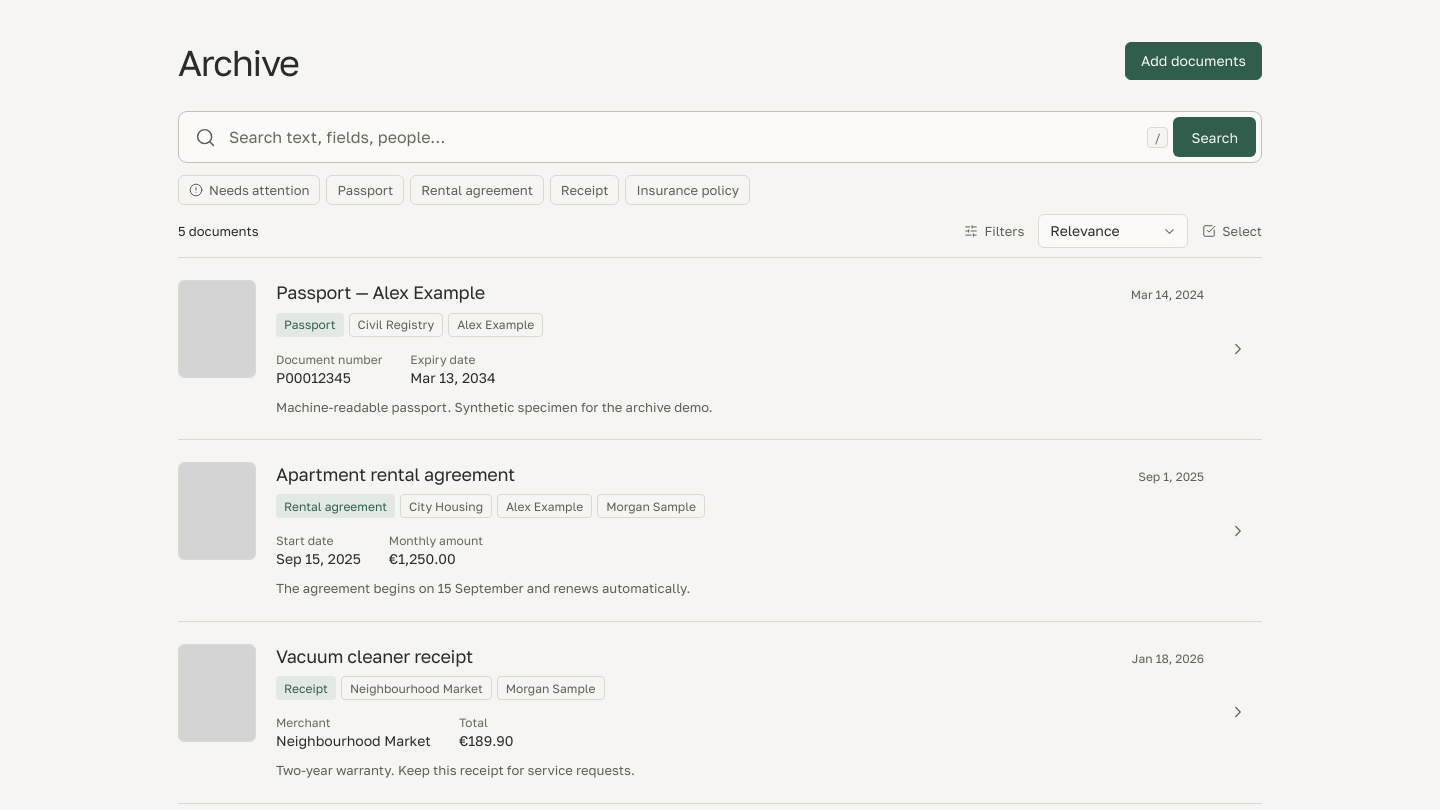
ArchivePage selection › shows checkboxes only in selection mode and reprocesses the chosen documents
Click the button "Select" at (1232, 231), box [1202,215,1262,247]
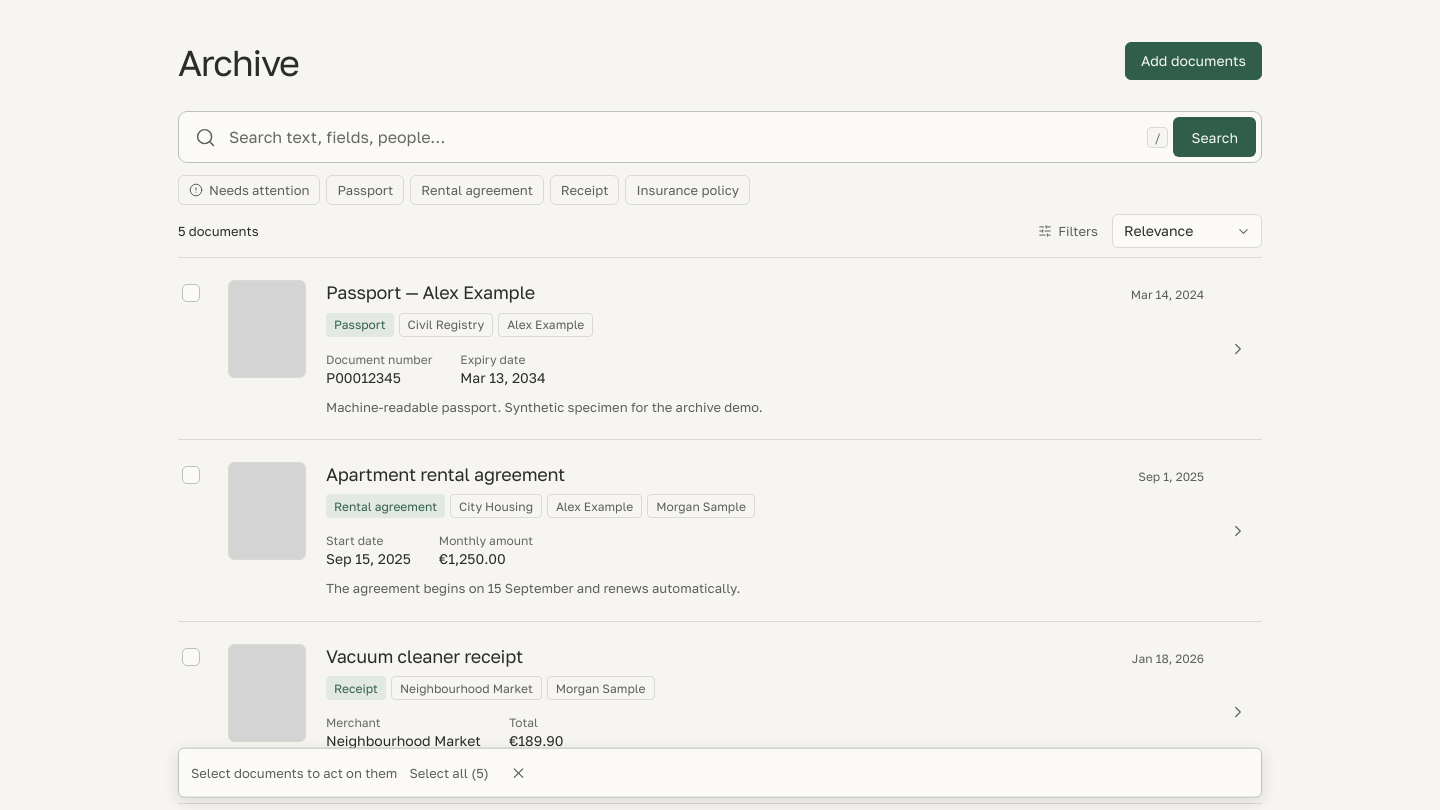
Click the checkbox named "Select “Passport — Alex Example”" at (191, 293), box [182,284,200,302]
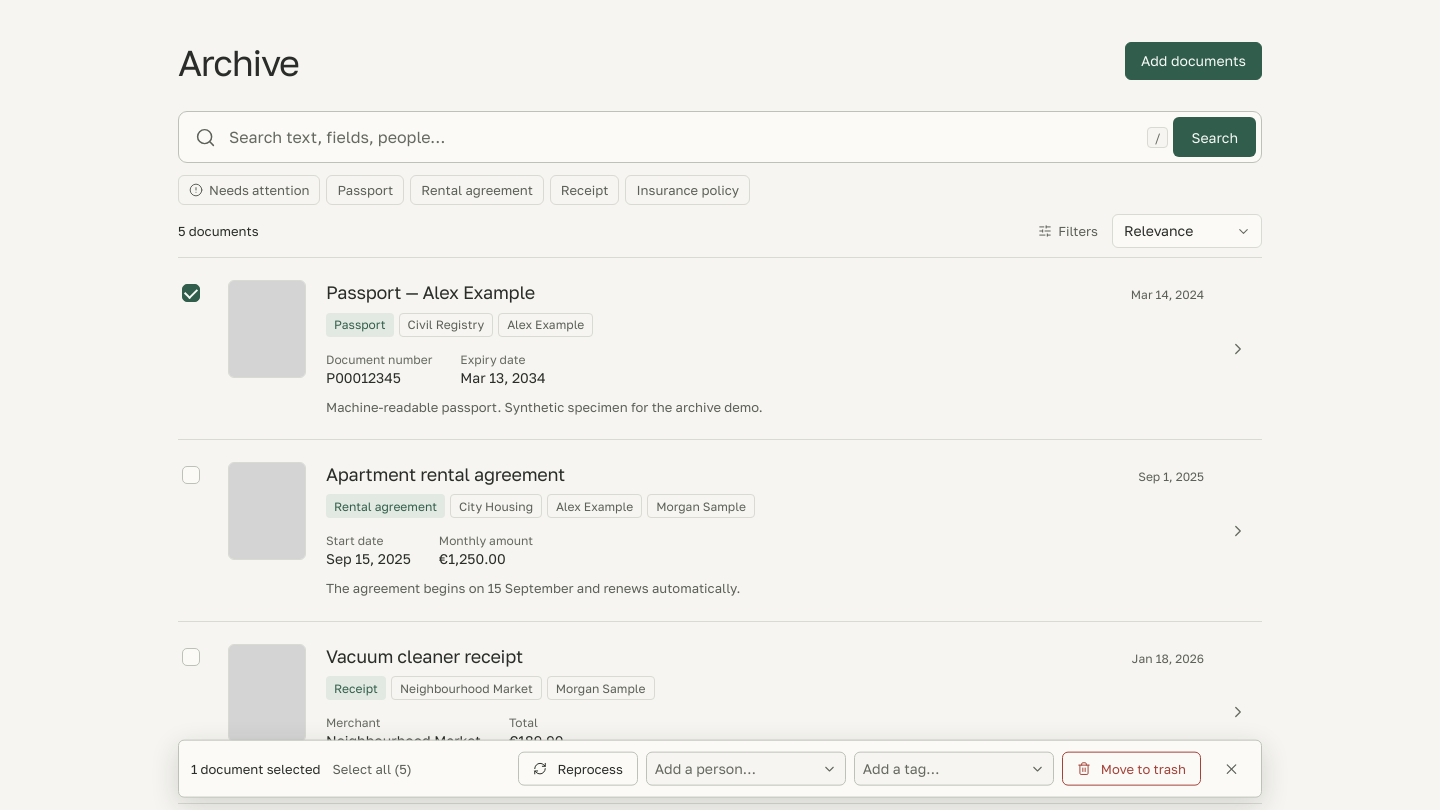
Click the checkbox named "Select “Apartment rental agreement”" at (191, 475), box [182,466,200,484]
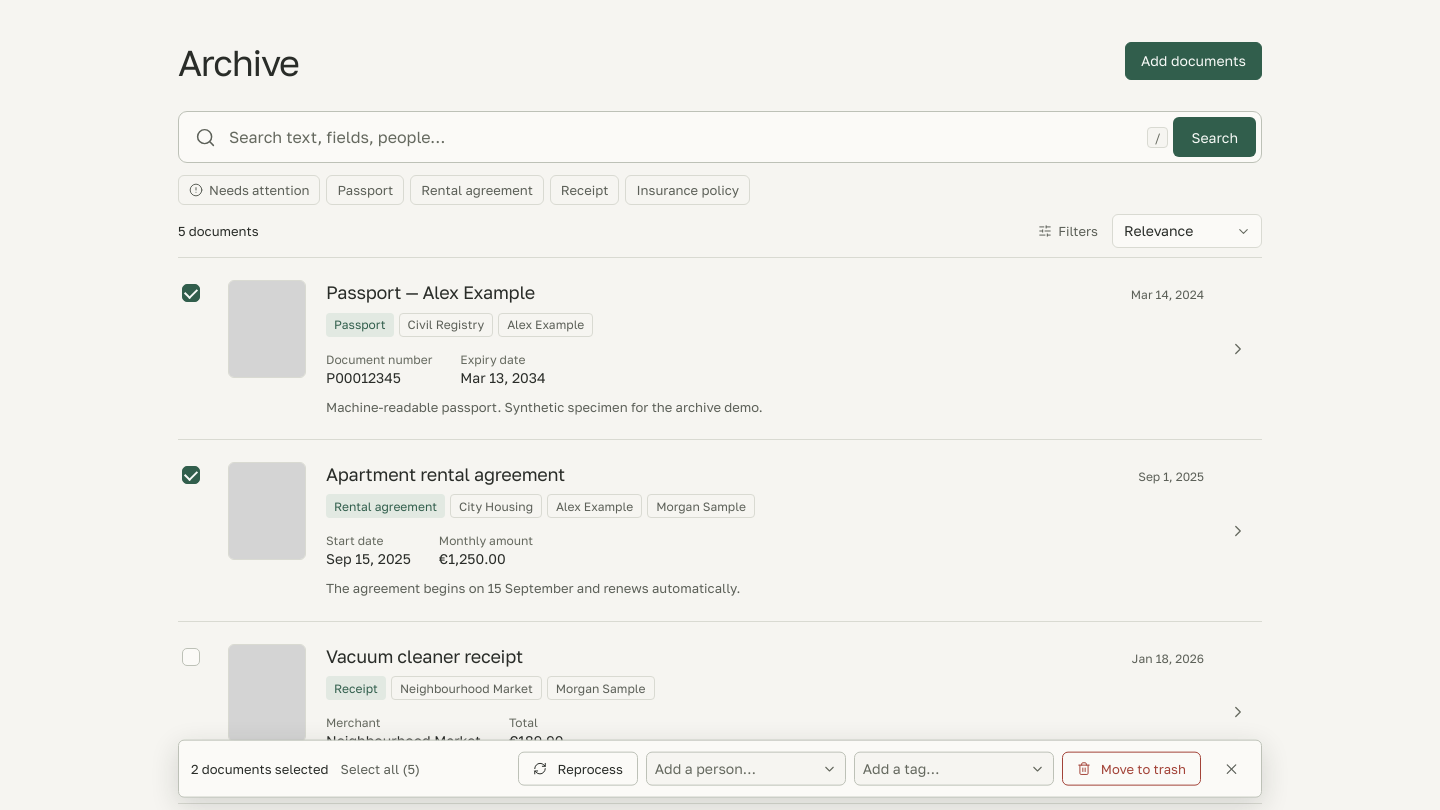
expect the text "2 documents selected" is shown: met, box [191,761,329,777]
Click the button "Reprocess" at (578, 769), box [518,752,638,786]
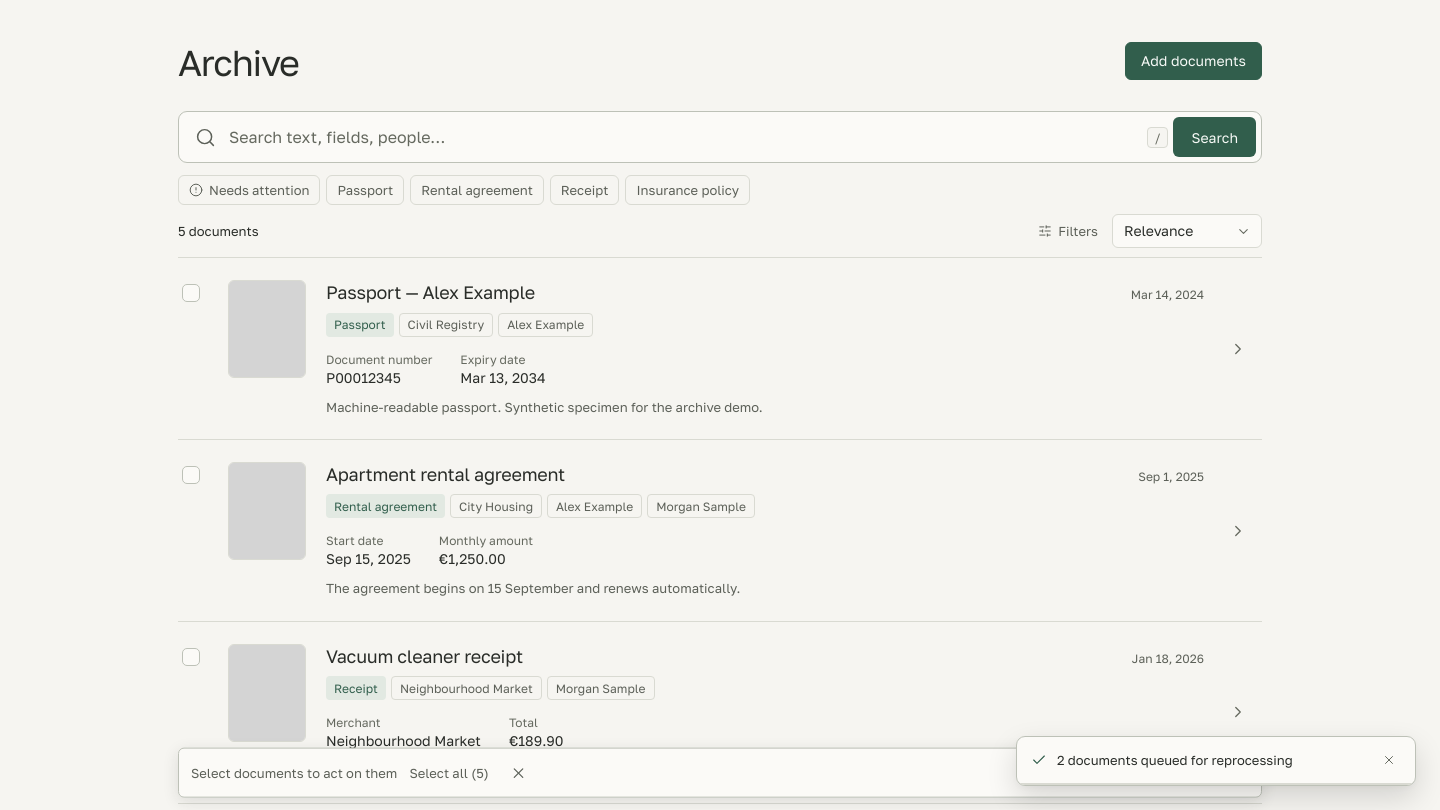
expect the text "2 documents queued for reprocessing" is shown: met, box [1057,752,1293,768]
